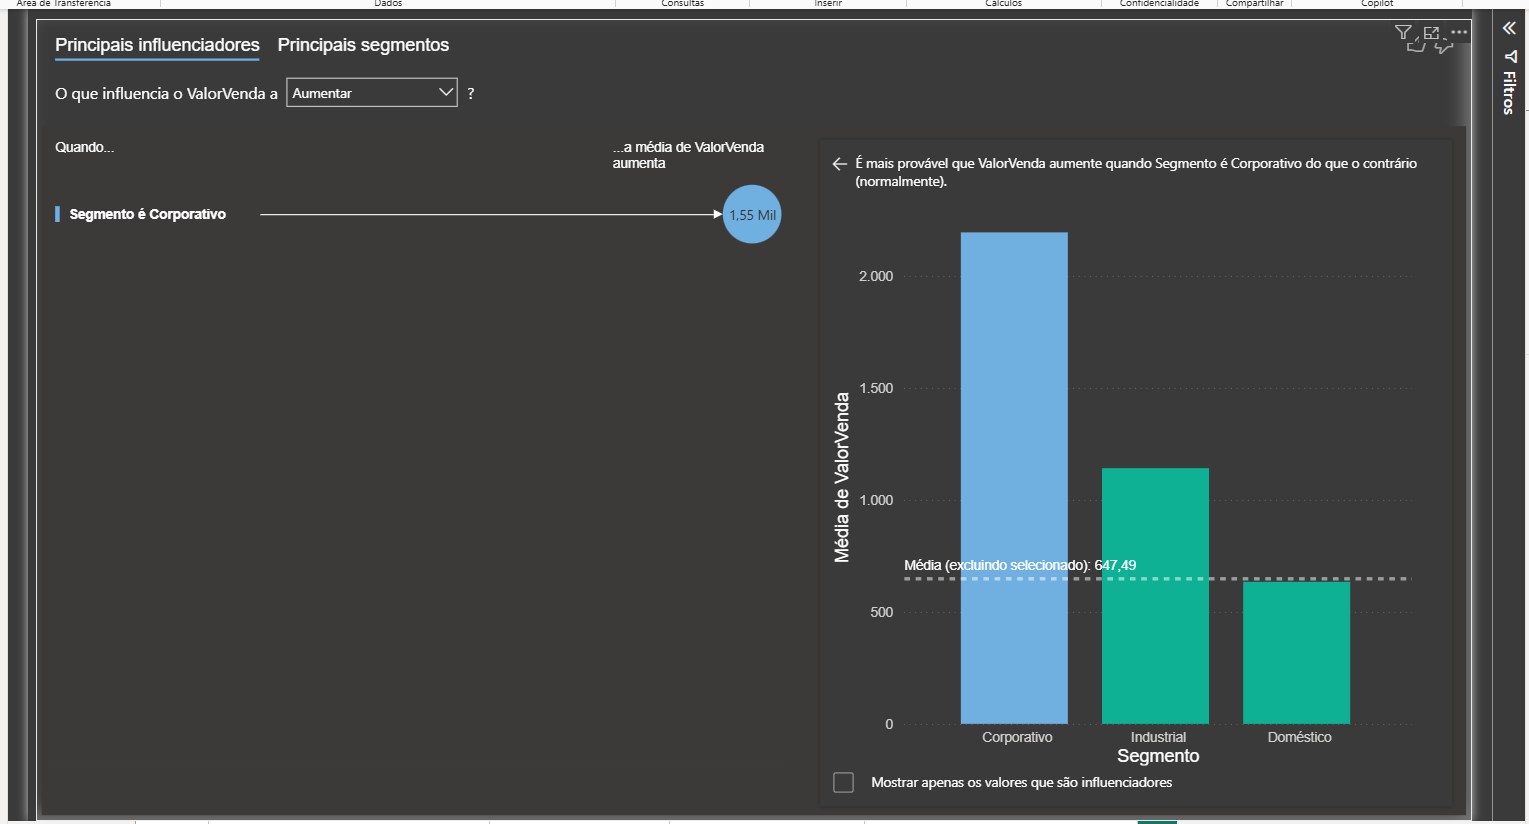

What the dashboard file says about the page in this screenshot:
{"tool":"powerbi","page":{"name":"Principais Influenciadores","canvas":[1280,720],"ordinal":2},"visuals":[{"type":"keyDriversVisual","fields":{"Target":["Vendas.ValorVenda"],"ExplainBy":["Vendas.Segmento"]},"box":[6.8,8.8,1273.2,711],"z":0}]}

Visuals, with their boxes on the page's 1280x720 design canvas (x1, y1, x2, y2). These are canvas units, not pixel positions in the 1529x824 screenshot, which may show the page scaled, cropped or inside an application window:
keyDriversVisual - Vendas.ValorVenda x Vendas.Segmento: x1=7, y1=9, x2=1280, y2=720
